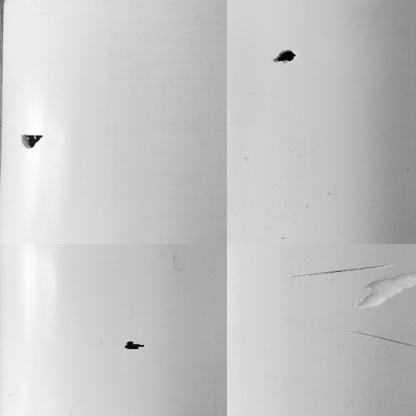kongdong: (19, 130, 46, 151), (268, 47, 296, 65), (123, 339, 149, 353)
sunshang: (355, 270, 412, 313), (349, 326, 413, 352), (294, 261, 395, 277)
